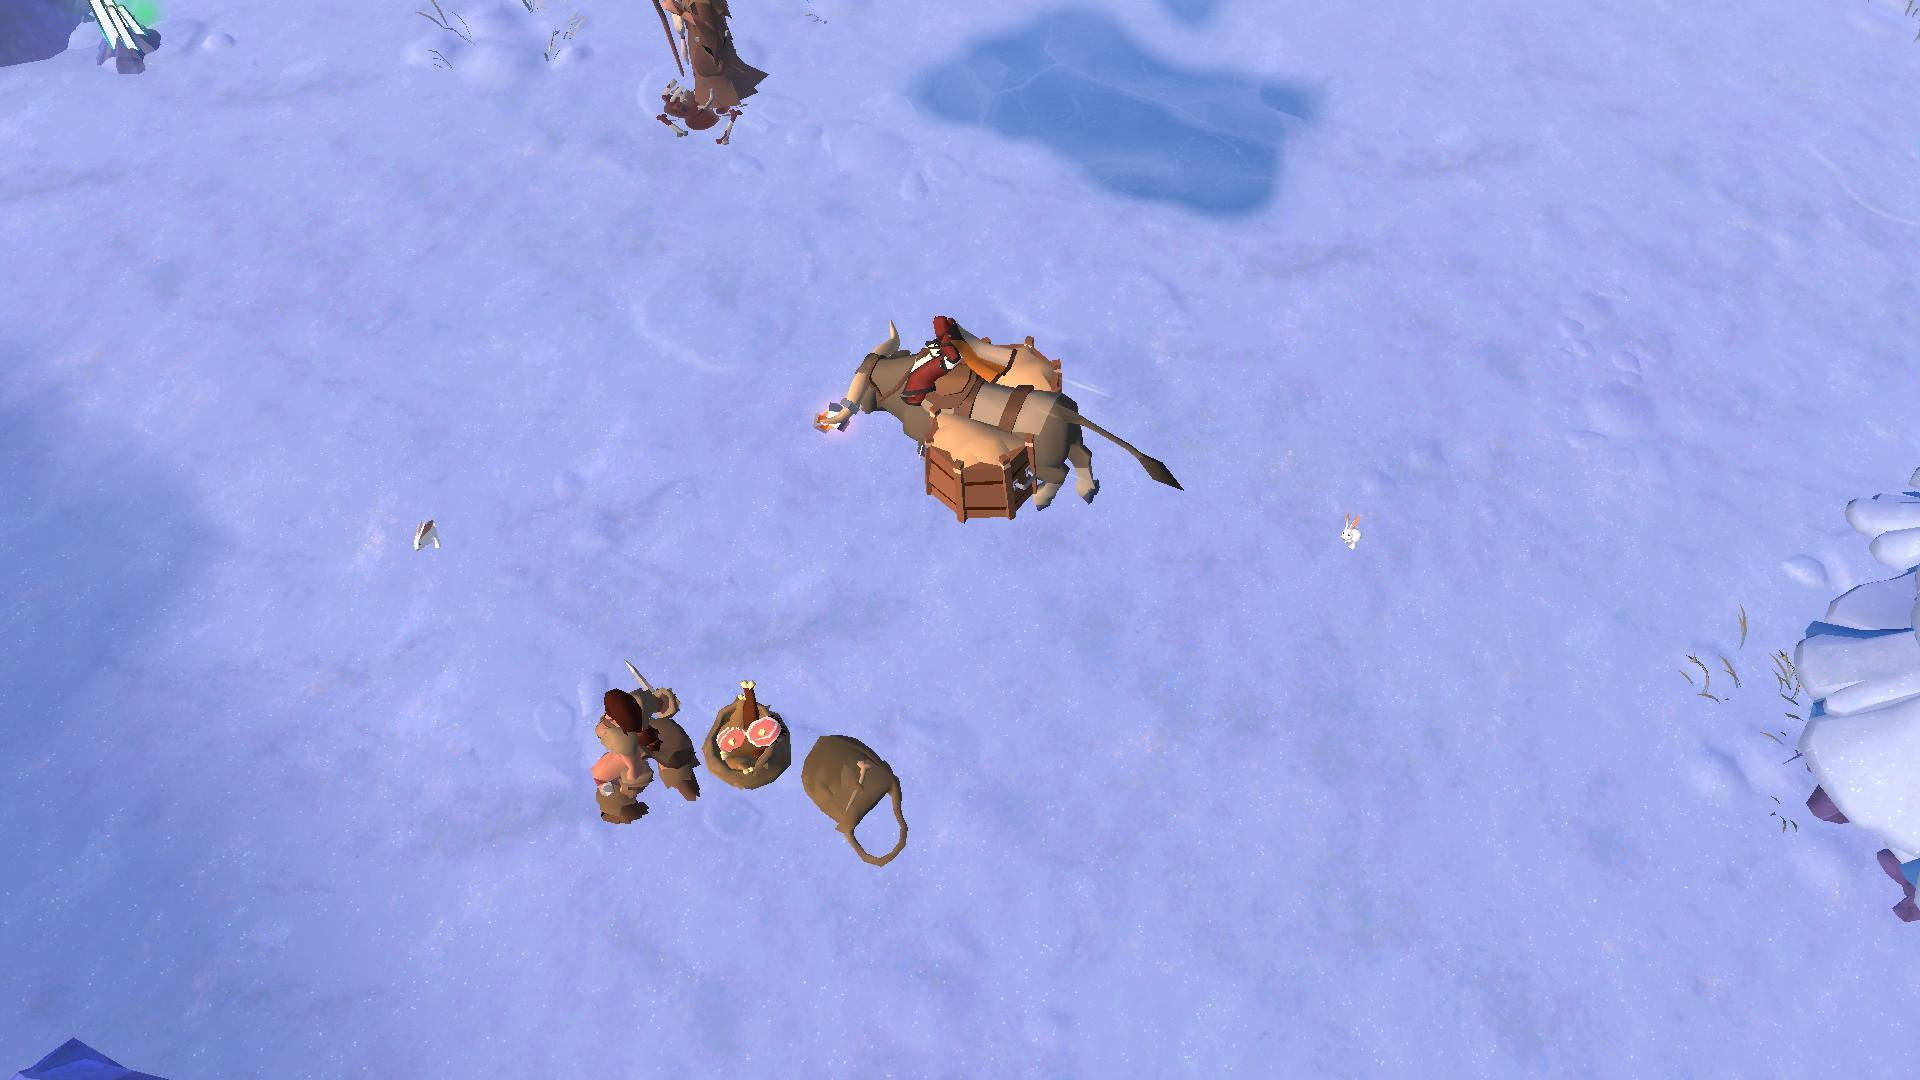enemy_factionKeeper: (555, 665, 702, 818)
ore_t4: (86, 0, 154, 66)
